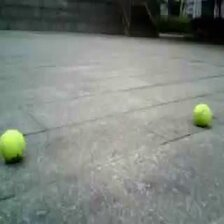tennis: (1, 128, 26, 163), (194, 104, 212, 126)
